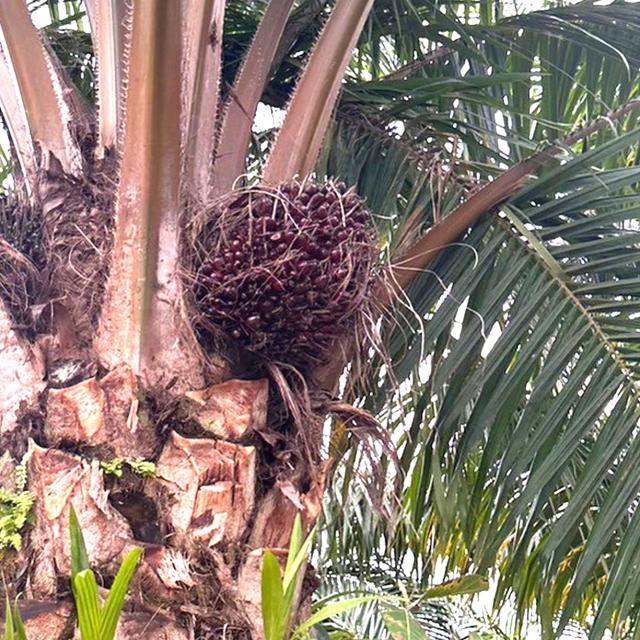ripe: (198, 172, 394, 341)
